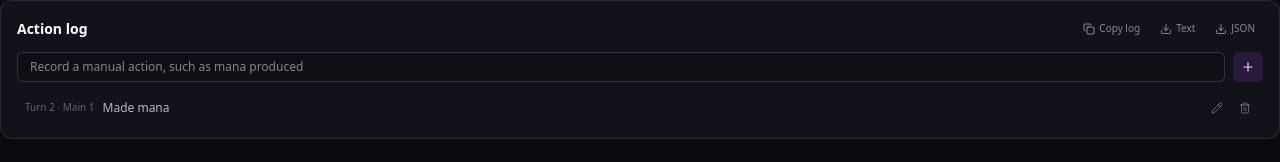
PlaytestActionLog › cancels an edited action with Escape without saving it
Click the button named "edit".
click(1217, 108)  # box [1207, 98, 1227, 118]
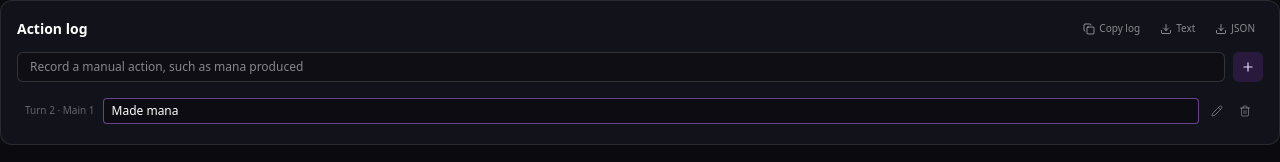
Replace the text in the field named "edit action" with "Changed mana" at (651, 111), box [102, 98, 1199, 124]
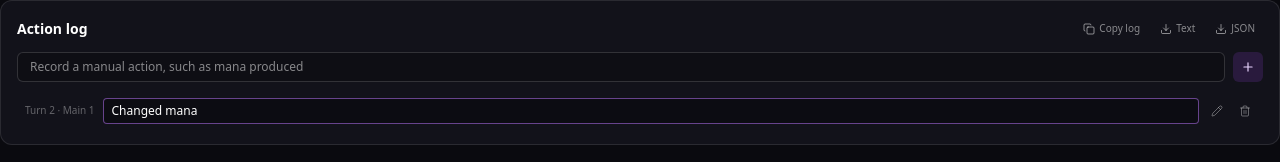
Press Escape in the field named "edit action", box [102, 98, 1199, 124]
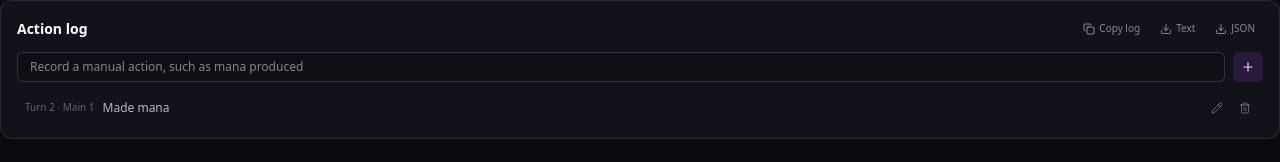
Now the text "Made mana" is shown, box [102, 99, 170, 116]
